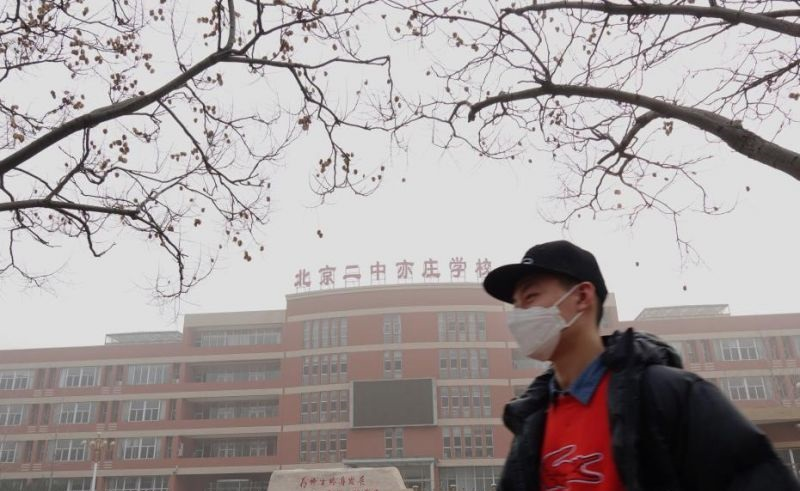face_mask: (509, 276, 567, 357)
